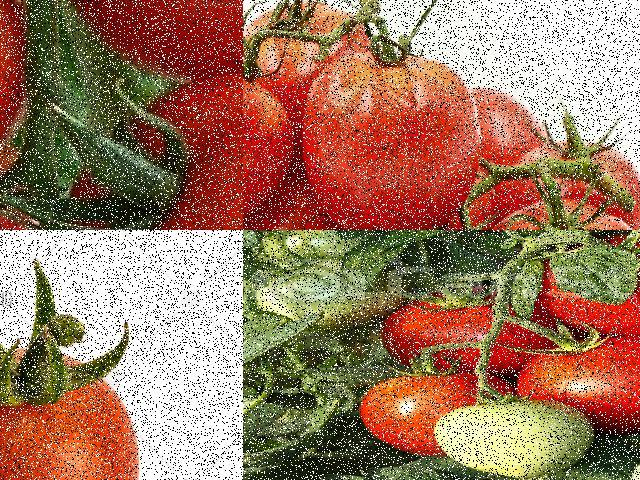tomato: (305, 42, 483, 229), (46, 75, 242, 229), (0, 340, 147, 479), (374, 291, 554, 374), (60, 0, 242, 76), (243, 0, 365, 112), (503, 335, 639, 434), (369, 366, 511, 448), (243, 40, 297, 229), (511, 144, 639, 213), (557, 234, 639, 337), (243, 178, 352, 229)
